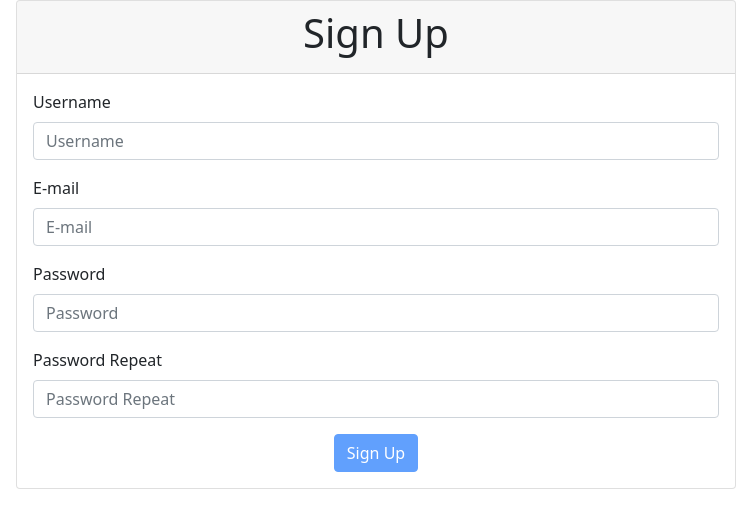
Test case: Sign Up Page › Interactions › displays E-mail cannot be null for email
The image size is (753, 531).
In the field labelled "Username": [376, 141] box [33, 122, 719, 160], type "user1"
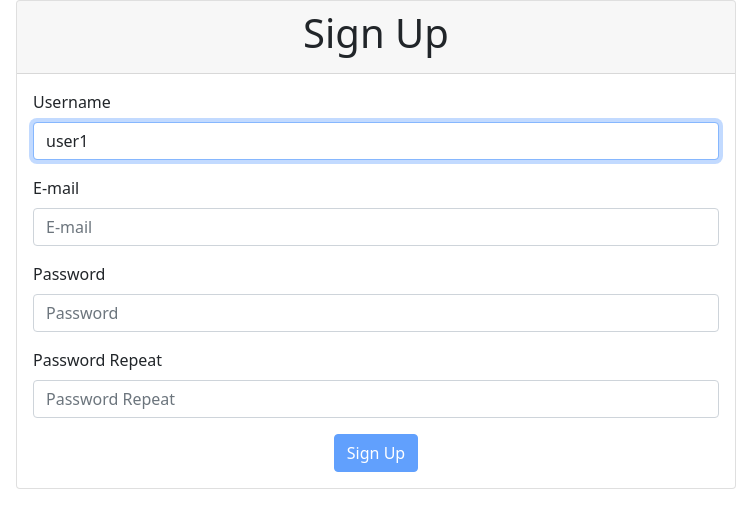
In the field labelled "E-mail": [376, 227] box [33, 208, 719, 246], type "user1@mail.com"
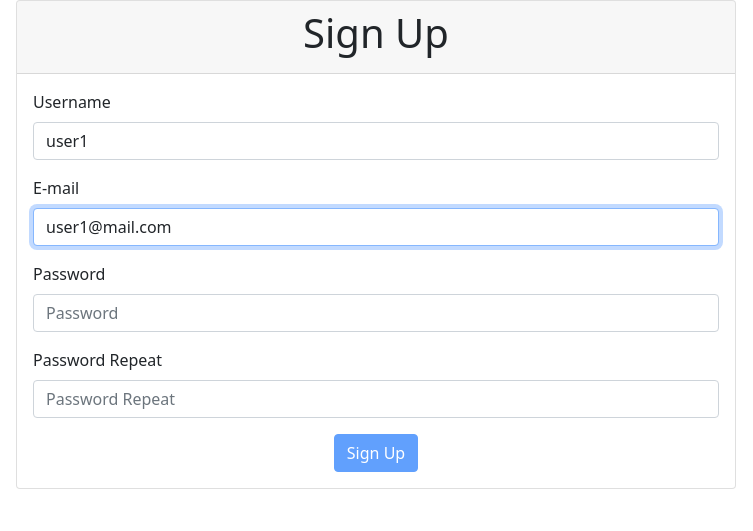
In the password field labelled "Password": [376, 313] box [33, 294, 719, 332], type "P4ssword"
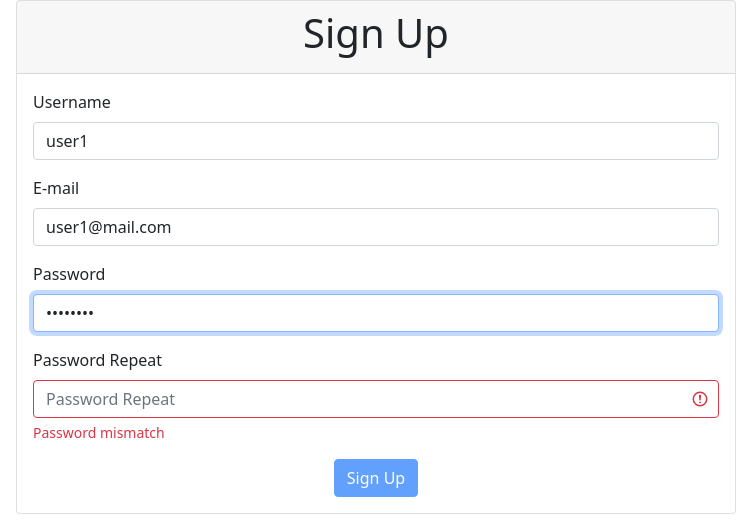
In the password field labelled "Password Repeat": [376, 399] box [33, 380, 719, 418], type "P4ssword"
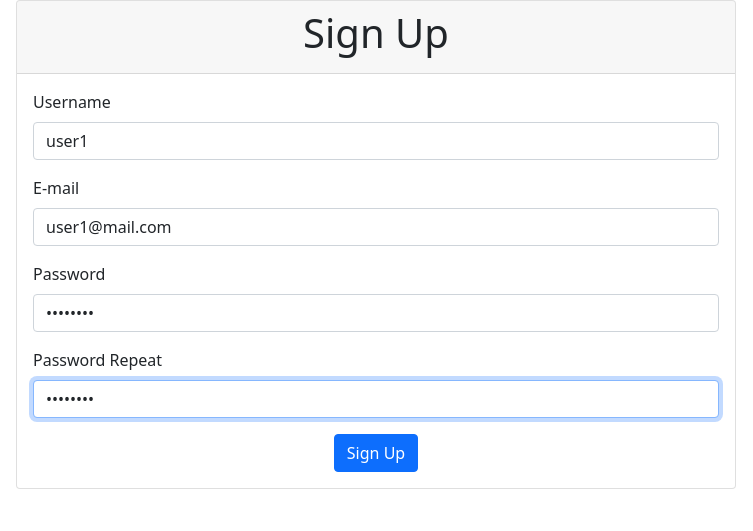
Click the button "Sign Up": [376, 453] box [334, 434, 418, 472]
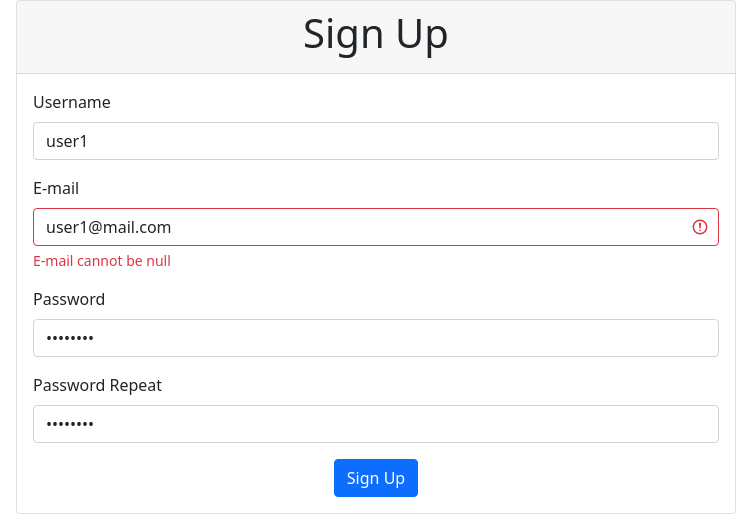
Now the text "E-mail cannot be null" is shown, box [33, 251, 171, 270]
